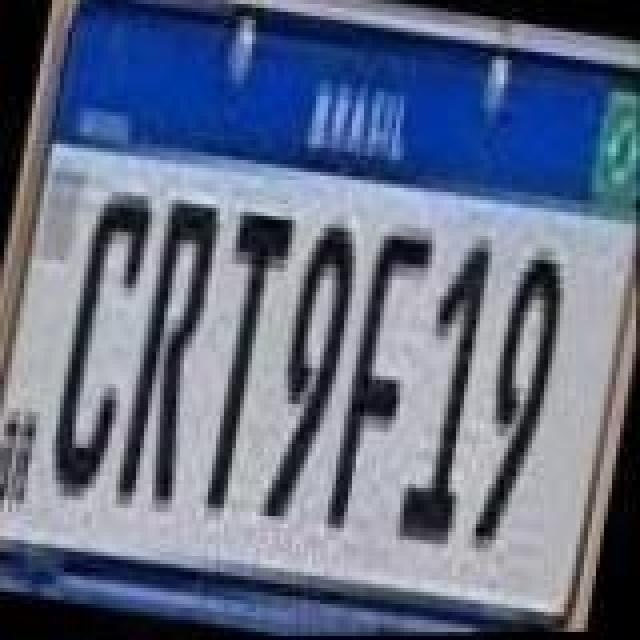1: (396, 236, 504, 552)
9: (254, 214, 366, 530), (464, 246, 572, 558)
C: (44, 182, 160, 502)
F: (326, 222, 438, 538)
R: (114, 194, 226, 514)
T: (186, 208, 298, 524)
